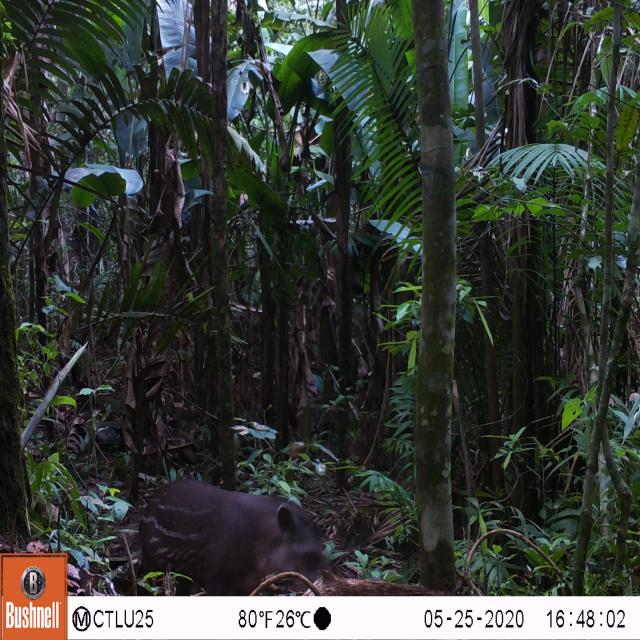Lowland Tapir: (132, 457, 330, 595)
